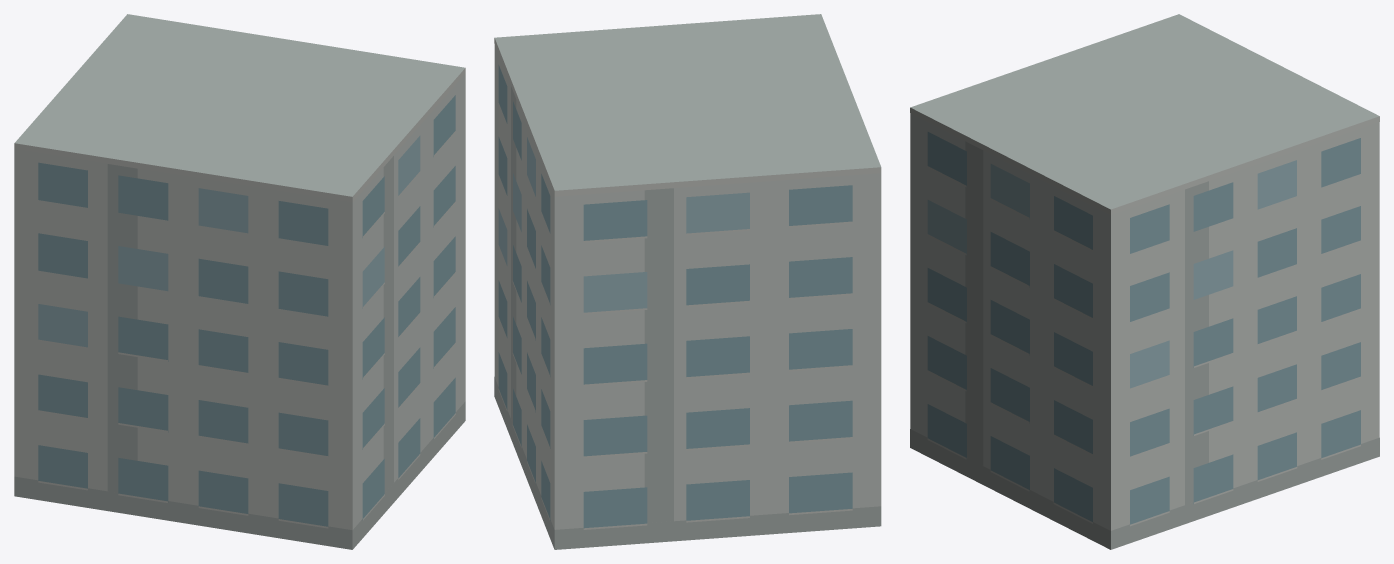
File: survey-upis-32843301.glb
3 views of the same model, side by side, from view 1: azimuth 30°, elevation 25°; view 2: azimuth 150°, elevation 25°; view 3: azimuth 270°, elevation 25° (orthographic). The views are drawn at different scales.
Visible parts, largest first — view 1: survey-upis-32843301.tmp; view 2: survey-upis-32843301.tmp; view 3: survey-upis-32843301.tmp.
Part boxes in pixels (bbox=[...]): survey-upis-32843301.tmp: bbox=[14, 14, 465, 549]; survey-upis-32843301.tmp: bbox=[494, 14, 881, 549]; survey-upis-32843301.tmp: bbox=[910, 14, 1379, 549].
Size of the model in its own units: 18 by 14.6 by 18.27.
